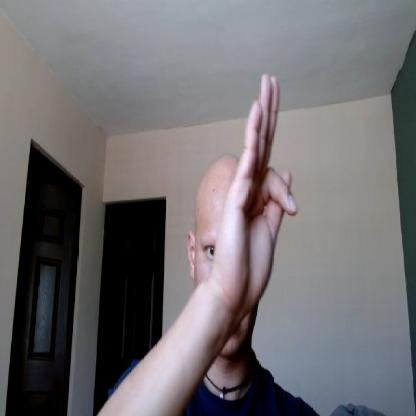F: (218, 72, 297, 299)
